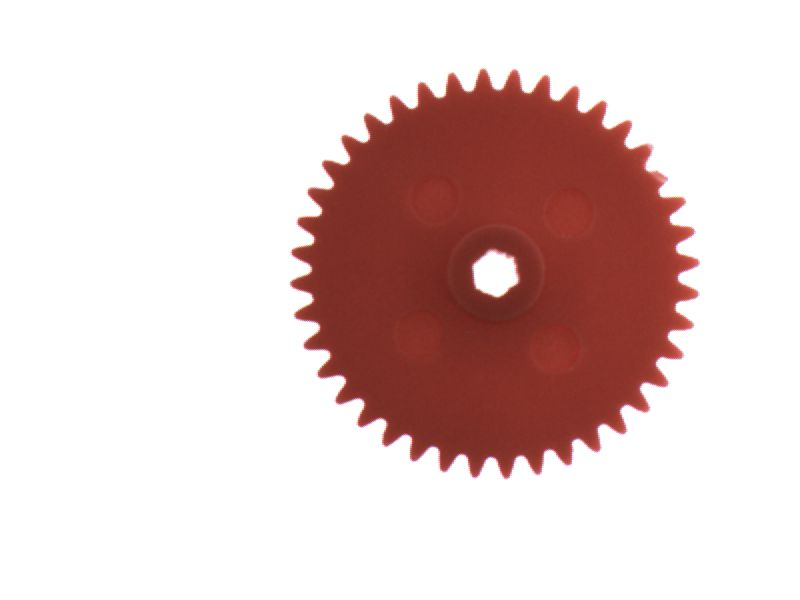defect_break: (628, 154, 695, 200)
